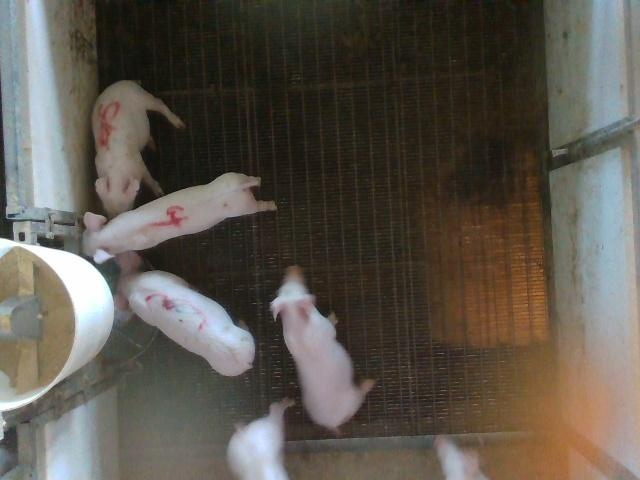pig-3: (114, 252, 255, 376)
pig-4: (82, 172, 276, 262)
pig-5: (92, 80, 184, 218)
